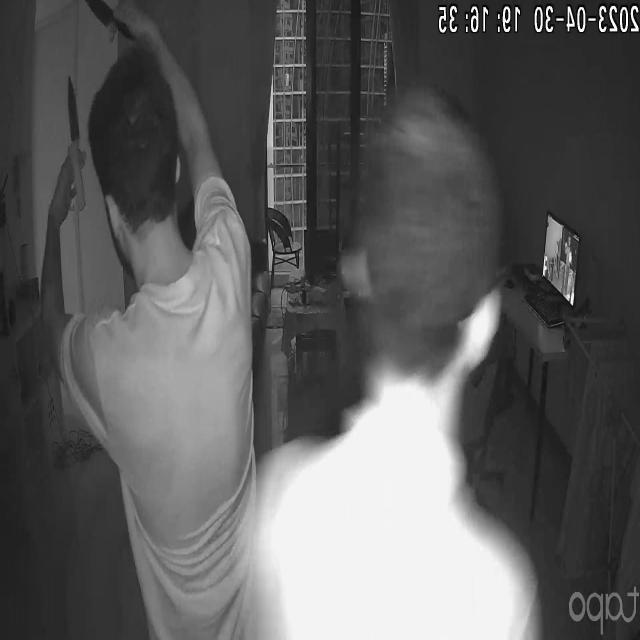Knife: (62, 66, 92, 215)
